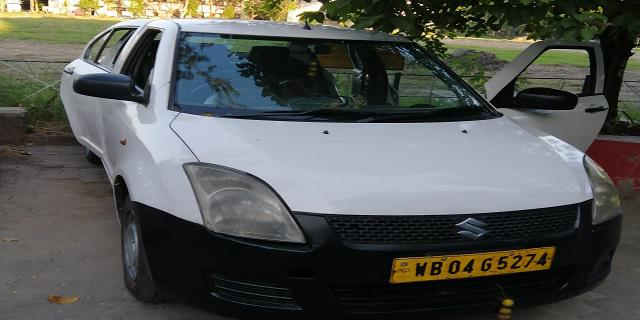Car: (55, 8, 618, 313)
